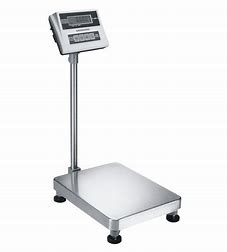Industrial Scale: (48, 9, 183, 246)
